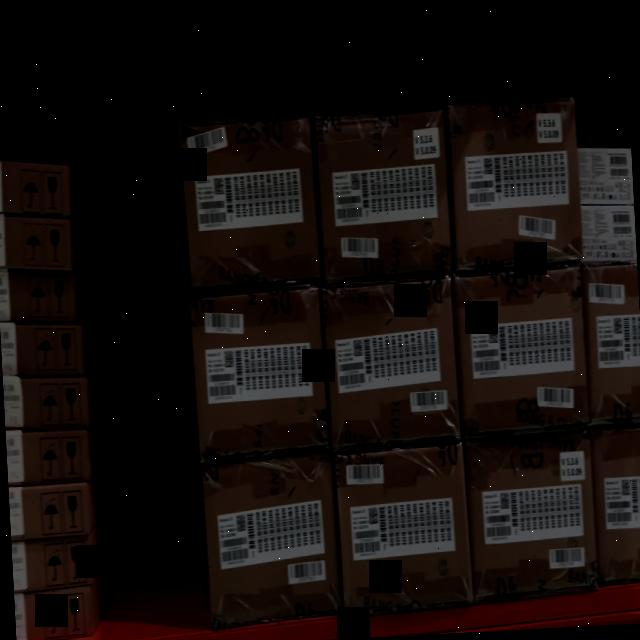box: (182, 120, 320, 292), (316, 111, 452, 279), (450, 98, 580, 266), (207, 458, 341, 620), (192, 294, 330, 451), (338, 450, 472, 611), (324, 286, 459, 442), (468, 437, 600, 595), (461, 276, 588, 428)
